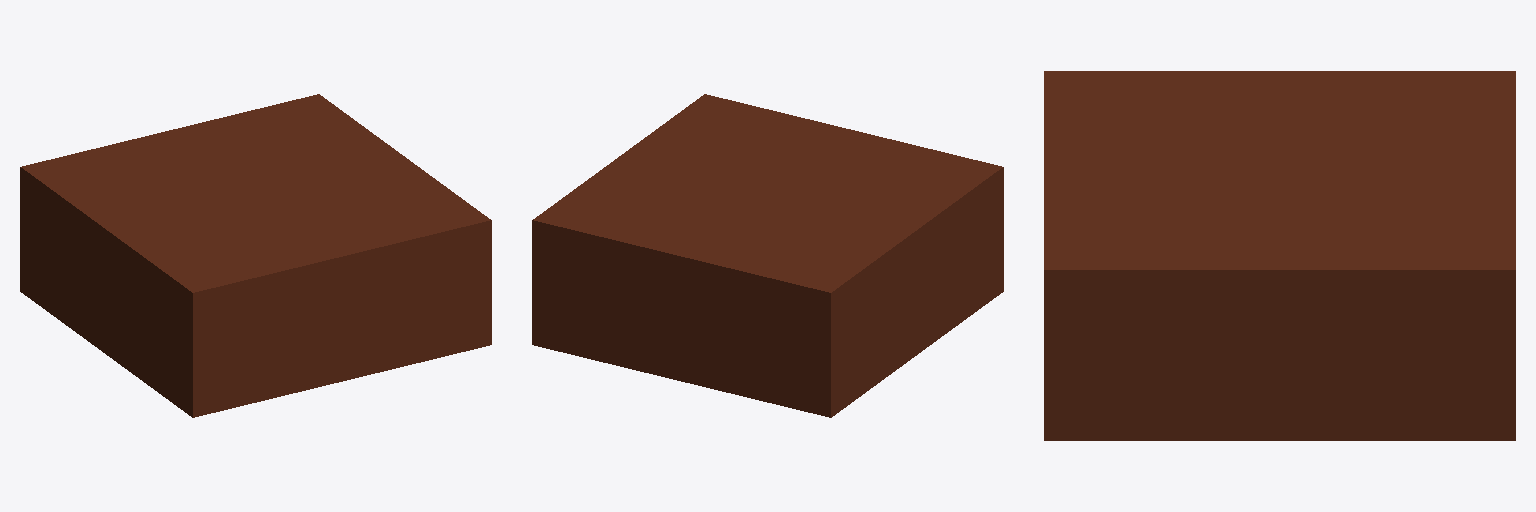
URDF robot description (3070__reddish_brown):
<?xml version="1.0"?>
<robot name="3070__reddish_brown">
  <link name="3070__reddish_brown">
    <inertial>
      <origin xyz="0.000000 0.000000 -0.001424" rpy="0 0 0"/>
      <mass value="0.000176"/>
      <inertia ixx="1.217594942e-09" ixy="-0.000000000e+00" ixz="1.413638742e-26" iyy="1.217594942e-09" iyz="-0.000000000e+00" izz="2.145124352e-09"/>
    </inertial>
    <visual>
      <geometry>
        <mesh filename="../meshes/visual/3070.obj" scale="1 1 1"/>
      </geometry>
      <material name="3070__reddish_brown_color">
        <color rgba="0.430 0.230 0.150 1.000"/>
      </material>
    </visual>
    <collision>
      <geometry>
        <mesh filename="../meshes/collision/3070_hull.obj" scale="1 1 1"/>
      </geometry>
    </collision>
  </link>
</robot>

--- Render facts (derived) ---
The picture shows the robot from 3 angles, left to right: view 1: azimuth 30°, elevation 25°; view 2: azimuth 150°, elevation 25°; view 3: azimuth 270°, elevation 25°; orthographic projection.
Robot: 3070__reddish_brown — 1 links, 0 joints (none); root link 3070__reddish_brown; default pose: all joints at 0.
Visible links, largest first — view 1: 3070__reddish_brown; view 2: 3070__reddish_brown; view 3: 3070__reddish_brown.
Link boxes in pixels (x1,y1,x2,y2): 3070__reddish_brown: (20,94,491,417); 3070__reddish_brown: (532,94,1003,417); 3070__reddish_brown: (1044,71,1515,440).
Size in the robot's own frame: 0.008 by 0.008 by 0.0032 metres.
Meshes: 1 distinct files referenced, 1 mesh visuals loaded (1 OBJ).
